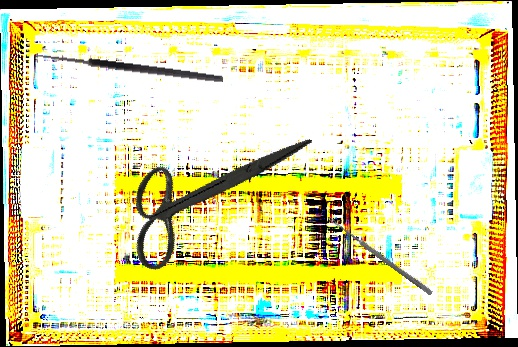Hook Surgical: (32, 51, 224, 93)
Iris Scissors: (105, 77, 314, 309)
Surgical Spoon: (327, 216, 434, 296)
